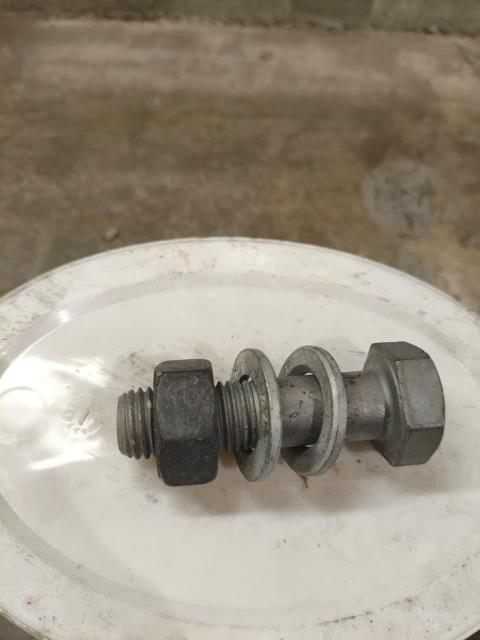Metal: (113, 348, 447, 482)
